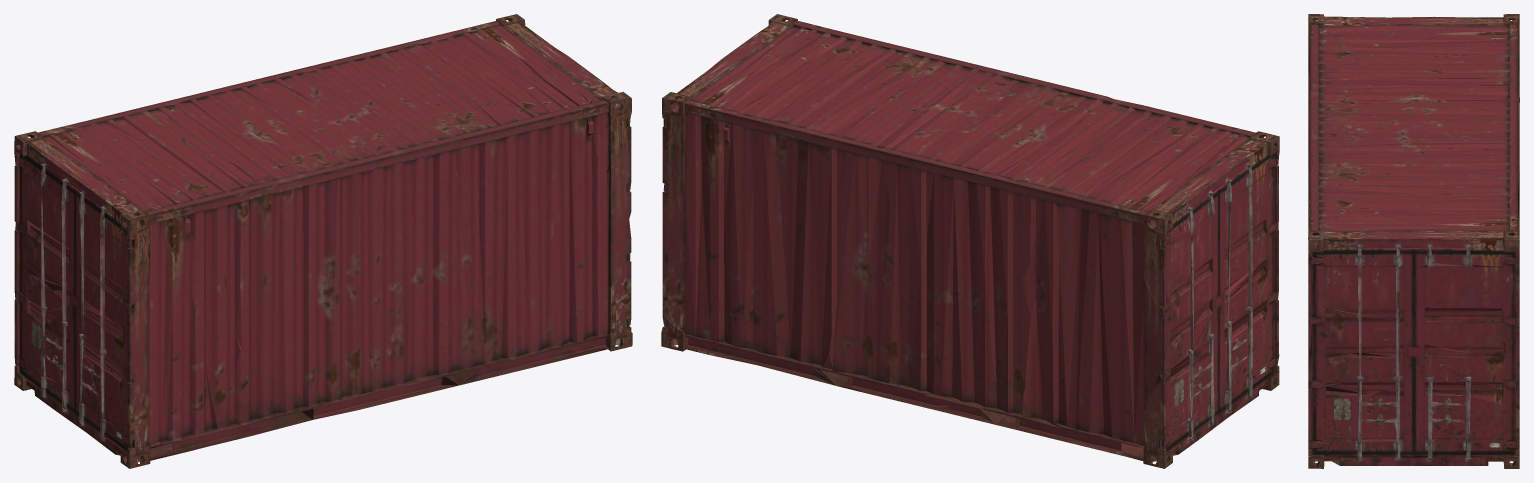
The model's file is conteneur.glb.
3 renders of one model, left to right at view 1: azimuth 30°, elevation 25°; view 2: azimuth 150°, elevation 25°; view 3: azimuth 270°, elevation 25°, orthographic. The views are drawn at different scales.
Parts seen in each view (by area): view 1: output_unwrapped; view 2: output_unwrapped; view 3: output_unwrapped.
Part boxes in pixels (x1,y1,x2,y2): output_unwrapped: (14,14,632,468); output_unwrapped: (661,14,1279,468); output_unwrapped: (1308,14,1519,468).
Bounding box in the file's own units: 1.9 × 0.8963 × 0.7507.
1 material, 1 textured.
